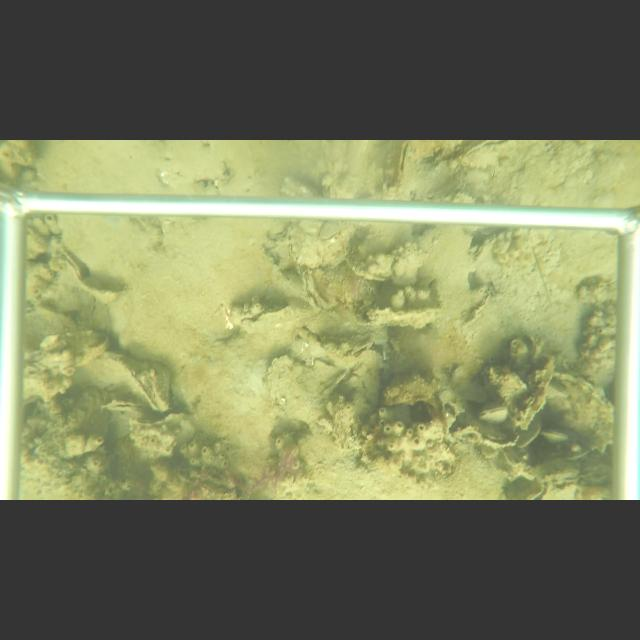Oyster-Closed: (468, 228, 564, 295), (267, 355, 350, 427), (550, 370, 614, 451), (96, 353, 175, 413), (515, 353, 558, 431), (280, 224, 325, 268), (363, 306, 443, 330), (461, 284, 494, 332), (479, 404, 510, 423), (542, 428, 572, 445), (319, 222, 341, 243)
Oyster-Open: (237, 305, 327, 330), (453, 141, 516, 168), (299, 270, 335, 313), (393, 141, 421, 191), (100, 400, 148, 416), (524, 480, 551, 498)
